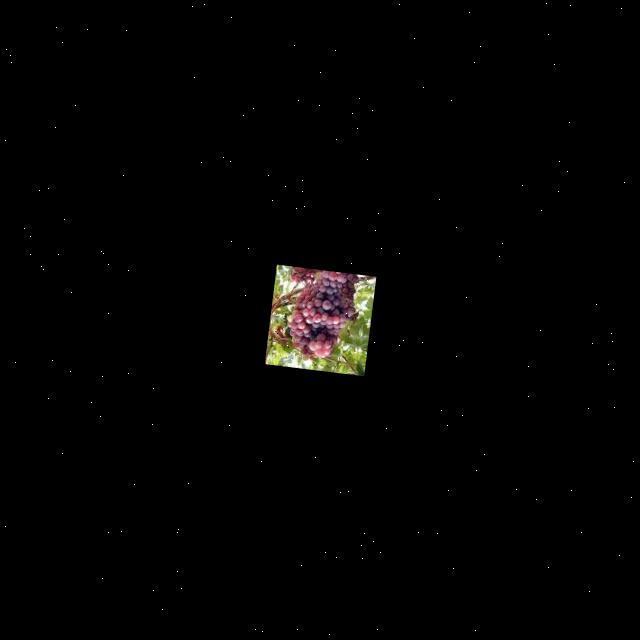grape: (280, 267, 361, 366)
